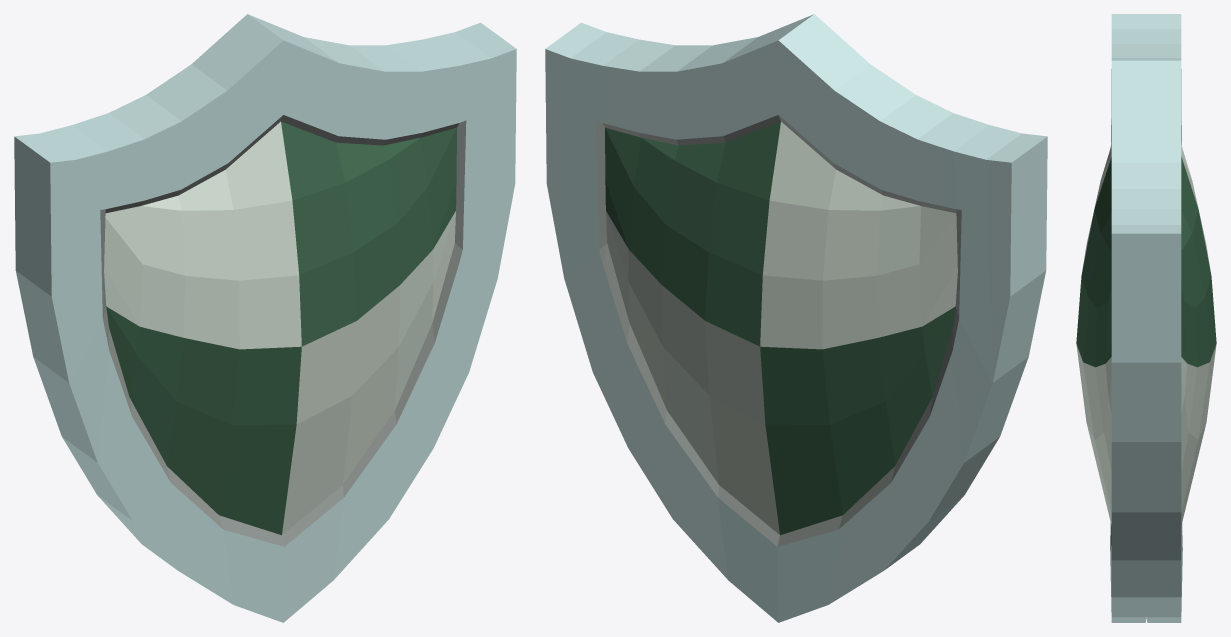
The model's file is Shield_Blue.fbx.
The picture shows the model from 3 angles, left to right: view 1: azimuth 30°, elevation 25°; view 2: azimuth 150°, elevation 25°; view 3: azimuth 270°, elevation 25°; orthographic projection. The views are drawn at different scales.
Visible parts, largest first — view 1: Shield; view 2: Shield; view 3: Shield.
Boxes of the visible parts, x1,y1,x2,y2 form: Shield: (14, 14, 516, 622); Shield: (545, 14, 1047, 622); Shield: (1076, 14, 1216, 622).
Size of the model in its own units: 58.34 by 15.75 by 69.63.
